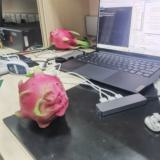pitaya: (18, 69, 69, 127), (50, 28, 89, 50)
